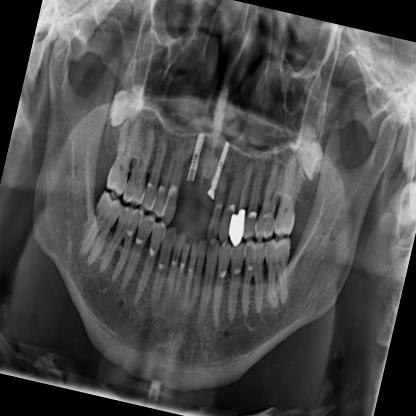ITI: (186, 129, 207, 184), (210, 138, 230, 190)
